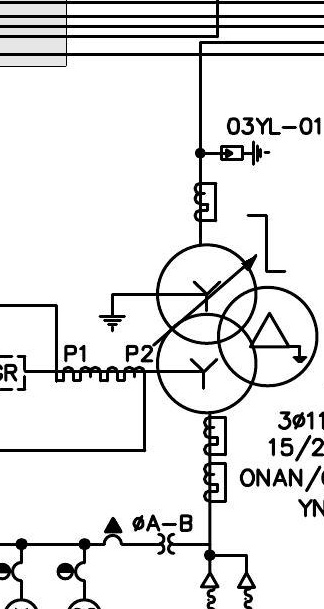11522_tx_ynyn0d1: (155, 242, 320, 416)
115_la: (219, 140, 271, 166)
terminator_double: (199, 553, 257, 589)
